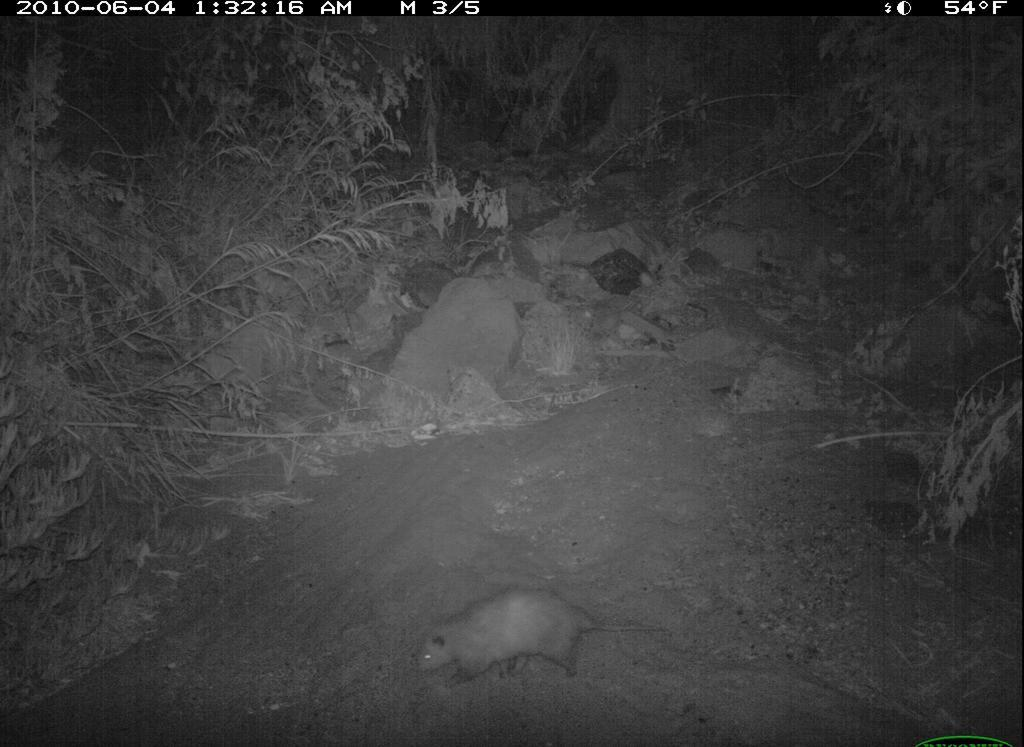opossum: (406, 587, 685, 696)
